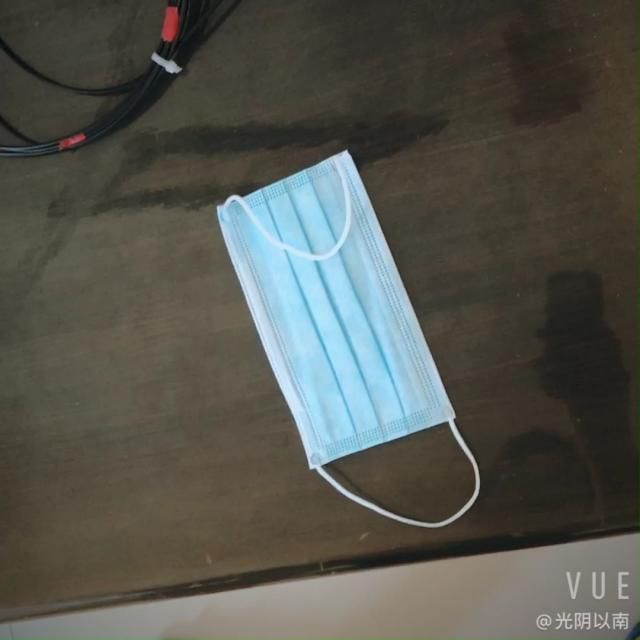face mask: (214, 161, 461, 488)
